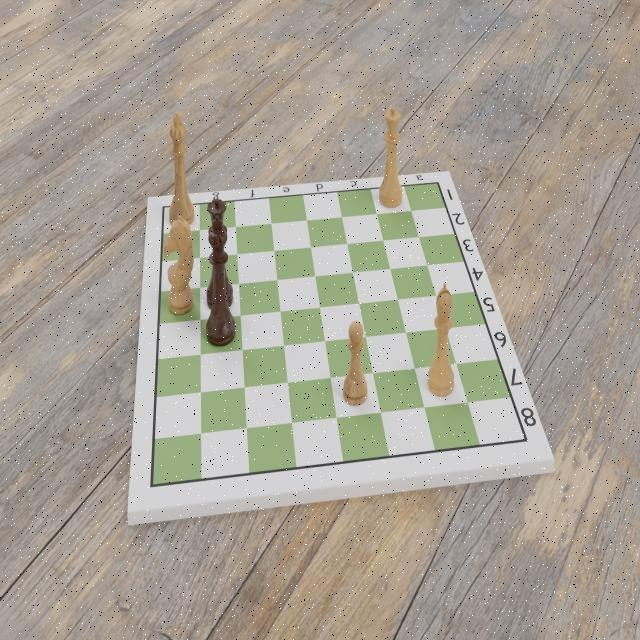black-king: (205, 216, 238, 347)
black-queen: (206, 194, 236, 309)
white-bishop: (426, 279, 457, 400)
white-king: (168, 110, 198, 225)
white-knight: (160, 212, 196, 316)
white-pawn: (340, 319, 371, 409)
white-queen: (379, 102, 405, 210)
